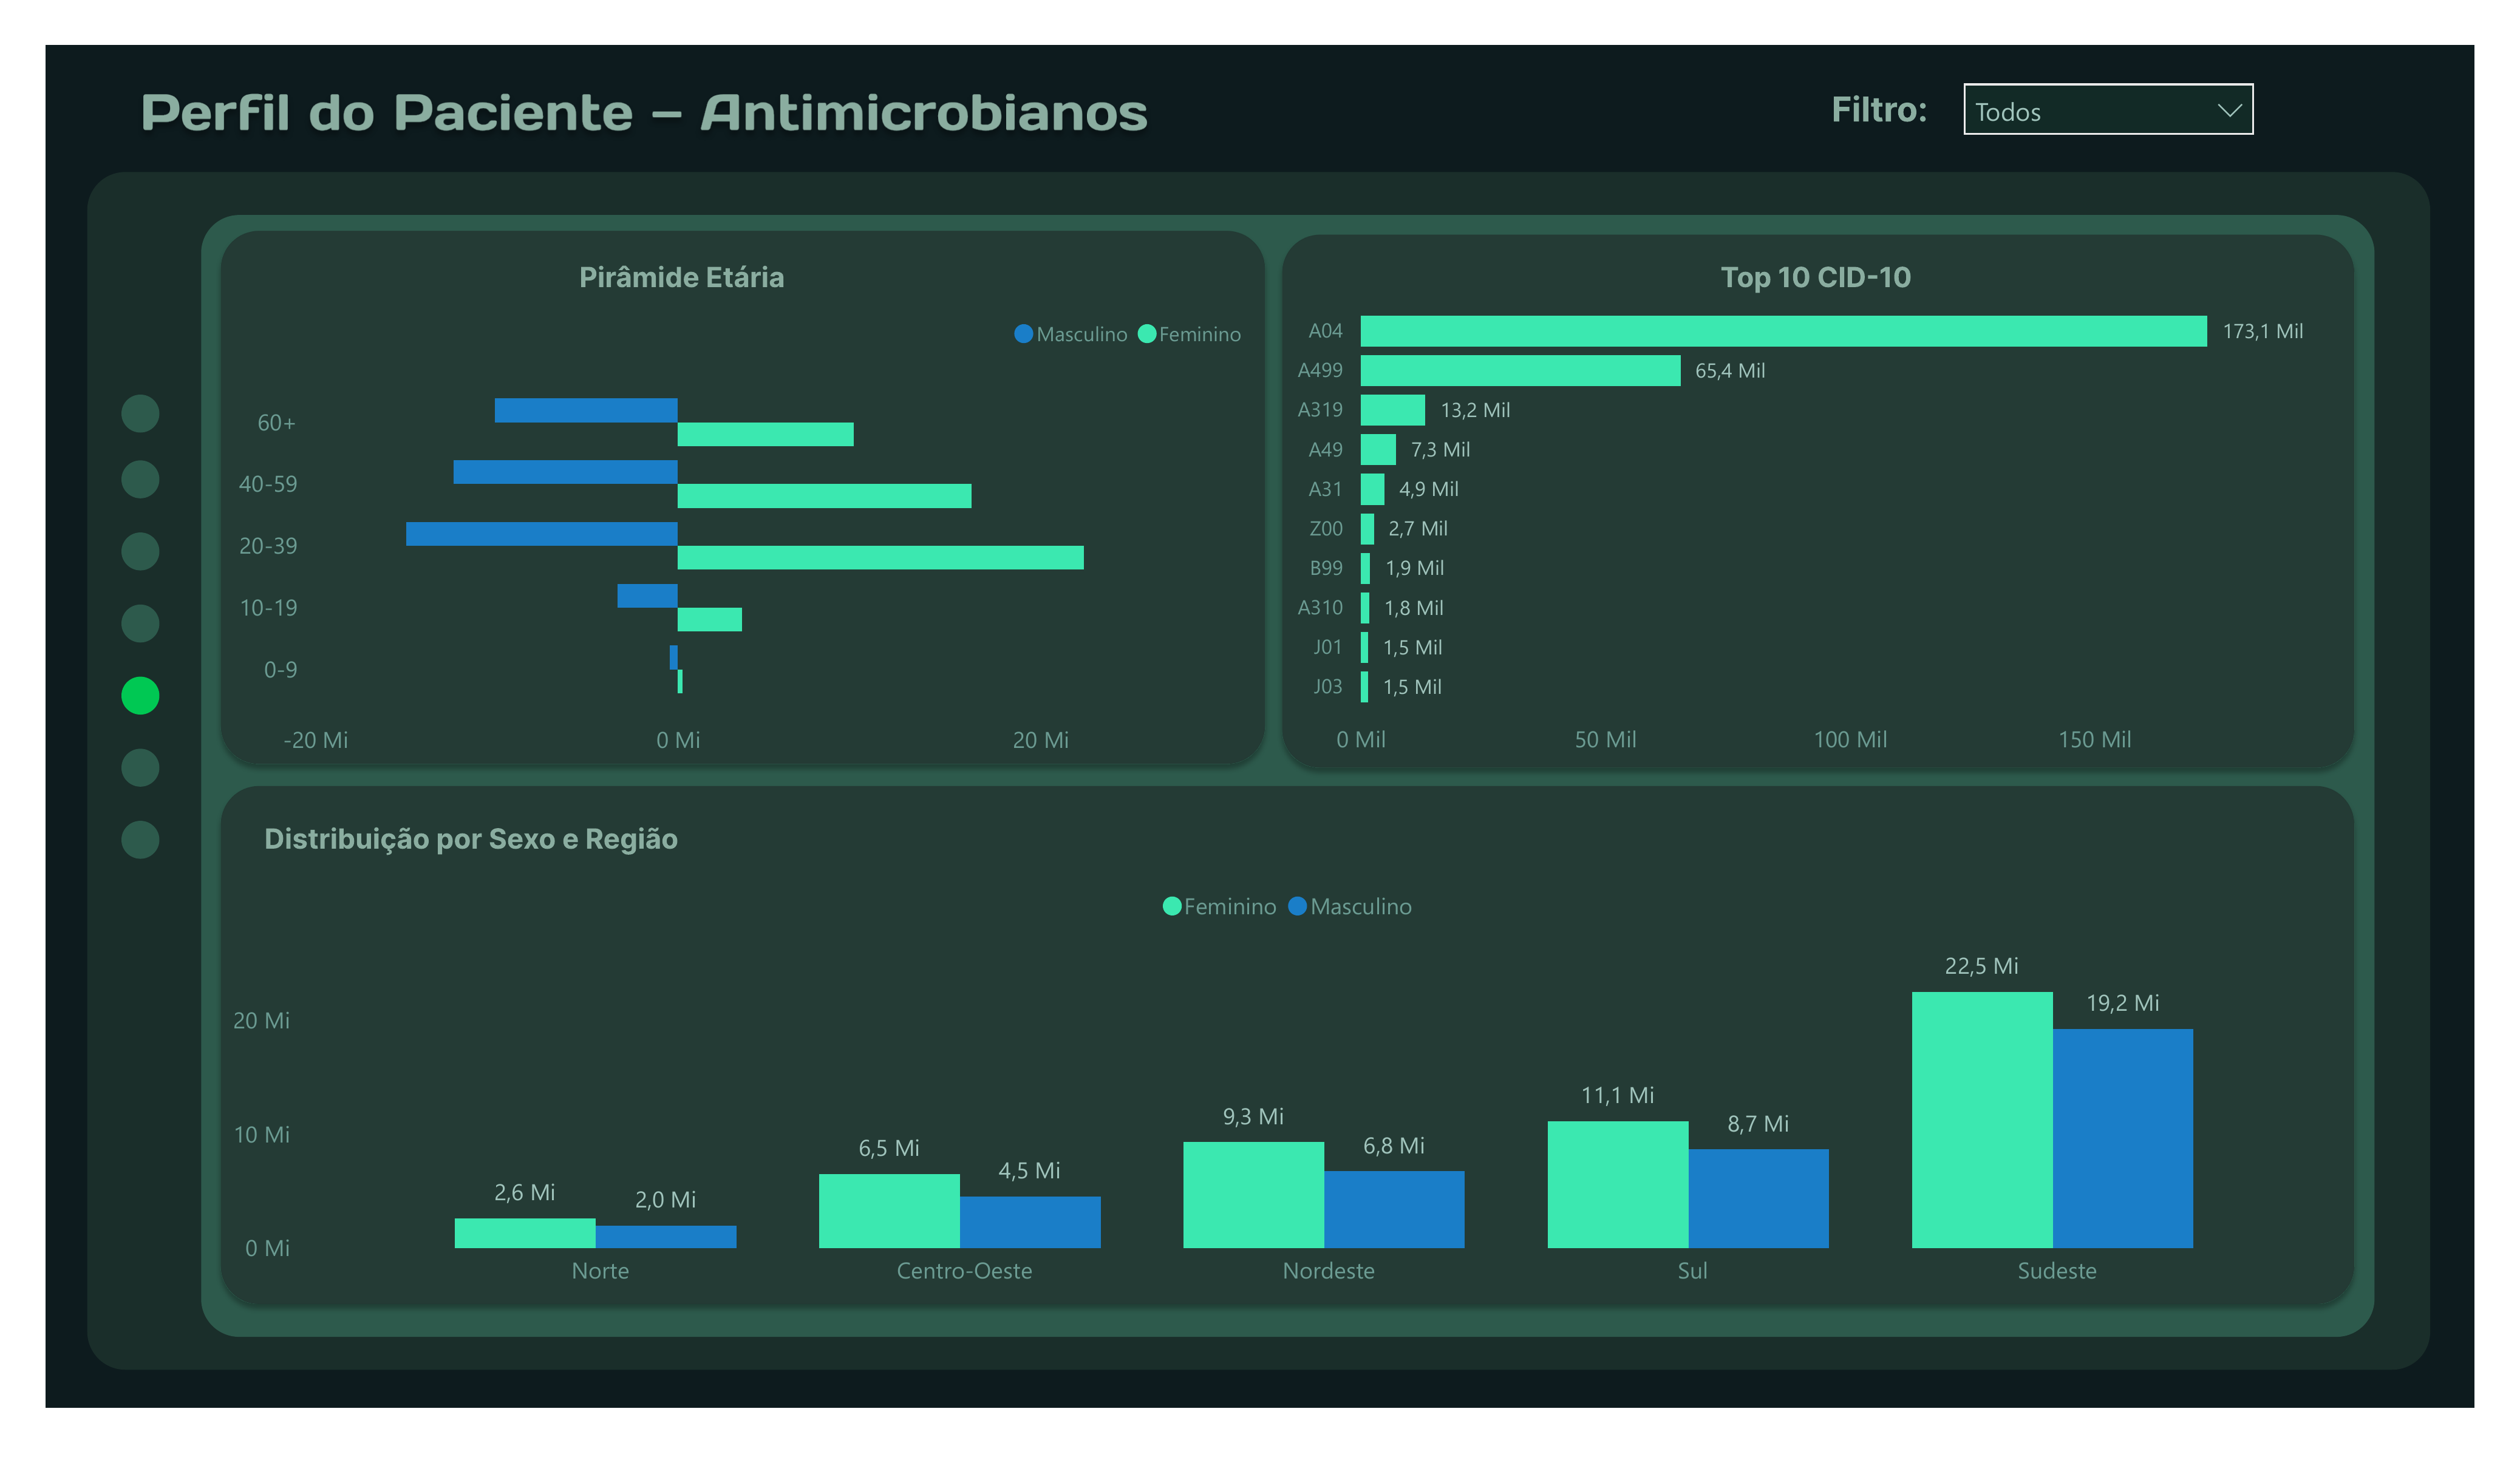

Layout of this report page (visuals, bound fields, positions):
{"tool":"powerbi","page":{"name":"Paciente","canvas":[1280,720],"ordinal":4},"visuals":[{"type":"clusteredBarChart","fields":{"Category":["Paciente Antimicrobiano.Faixa Etária"],"Y":["_Medidas.Qtd Masculino","_Medidas.Qtd Feminino"]},"box":[93.8,133.1,553.1,250.8],"z":0},{"type":"barChart","fields":{"Category":["Paciente Antimicrobiano.CID10"],"Y":["Sum(Paciente Antimicrobiano.Total Registros)"]},"box":[652.1,121.4,565,262.1],"z":1}]}

Visuals, with their boxes on the page's 1280x720 design canvas (x1, y1, x2, y2). These are canvas units, not pixel positions in the 2520x1457 screenshot, which may show the page scaled, cropped or inside an application window:
clusteredBarChart - Paciente Antimicrobiano.Faixa Etária x _Medidas.Qtd Masculino: 94/133/647/384
barChart - Paciente Antimicrobiano.CID10 x Sum(Paciente Antimicrobiano.Total Registros): 652/121/1217/384
